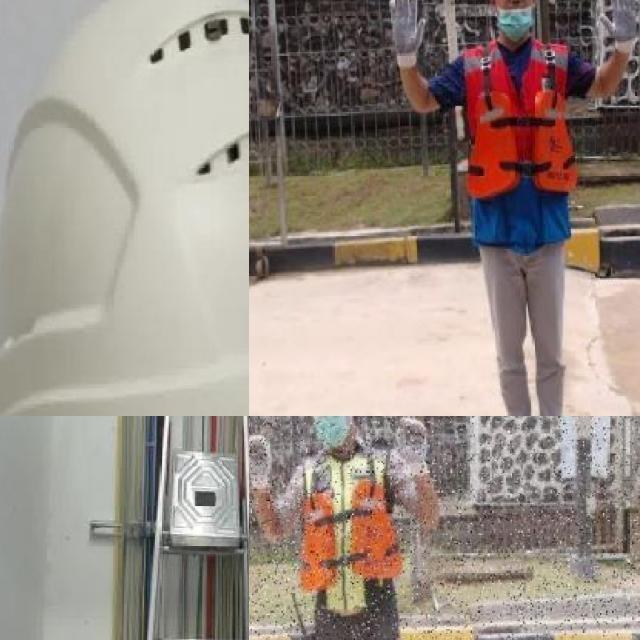apron: (388, 0, 425, 71), (390, 416, 433, 474), (599, 0, 640, 57), (249, 430, 276, 488)
